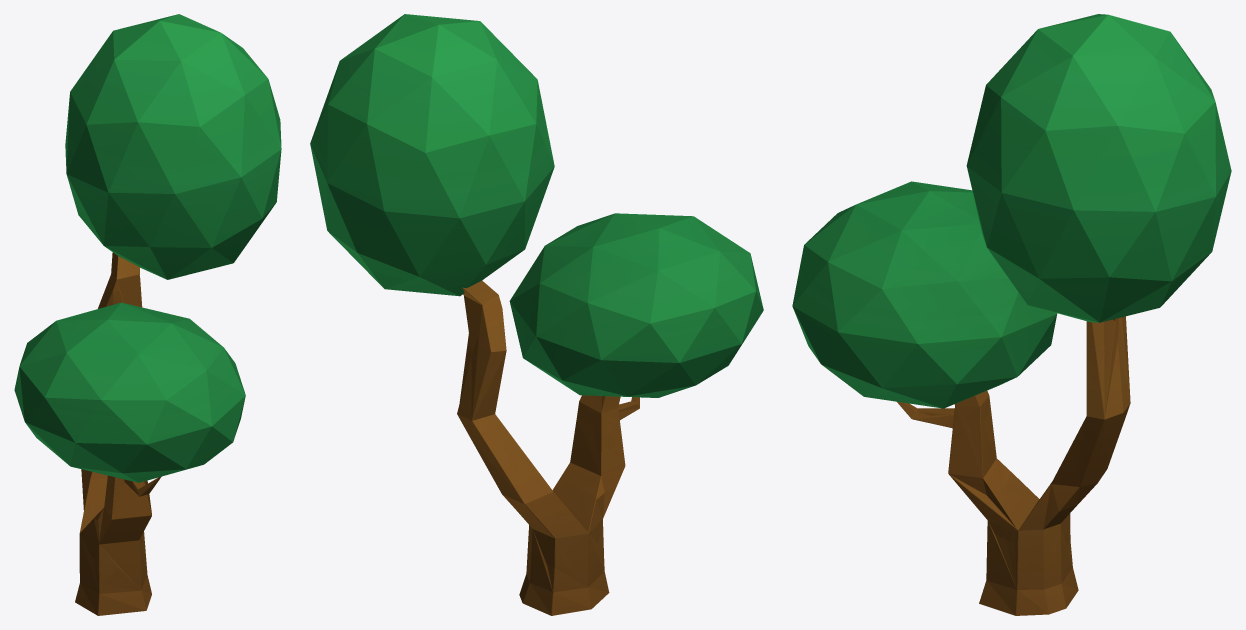
The model's file is tree_twin.glb.
3 views of the same model, side by side, from view 1: azimuth 30°, elevation 25°; view 2: azimuth 150°, elevation 25°; view 3: azimuth 270°, elevation 25° (orthographic). The views are drawn at different scales.
Visible parts, largest first — view 1: Tree_9_AA; view 2: Tree_9_AA; view 3: Tree_9_AA.
Boxes of the visible parts, box(x1,y1,x2,y2) form: Tree_9_AA: box(14, 14, 281, 615); Tree_9_AA: box(310, 14, 763, 615); Tree_9_AA: box(792, 14, 1231, 615).
Bounding box in the file's own units: 2.11 × 3.43 × 2.17.
1 material, 1 textured.
